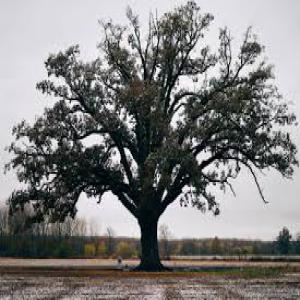Tree: (6, 2, 296, 272)
